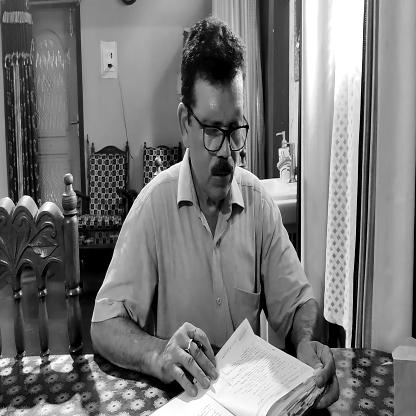Normal: (176, 10, 247, 210)
